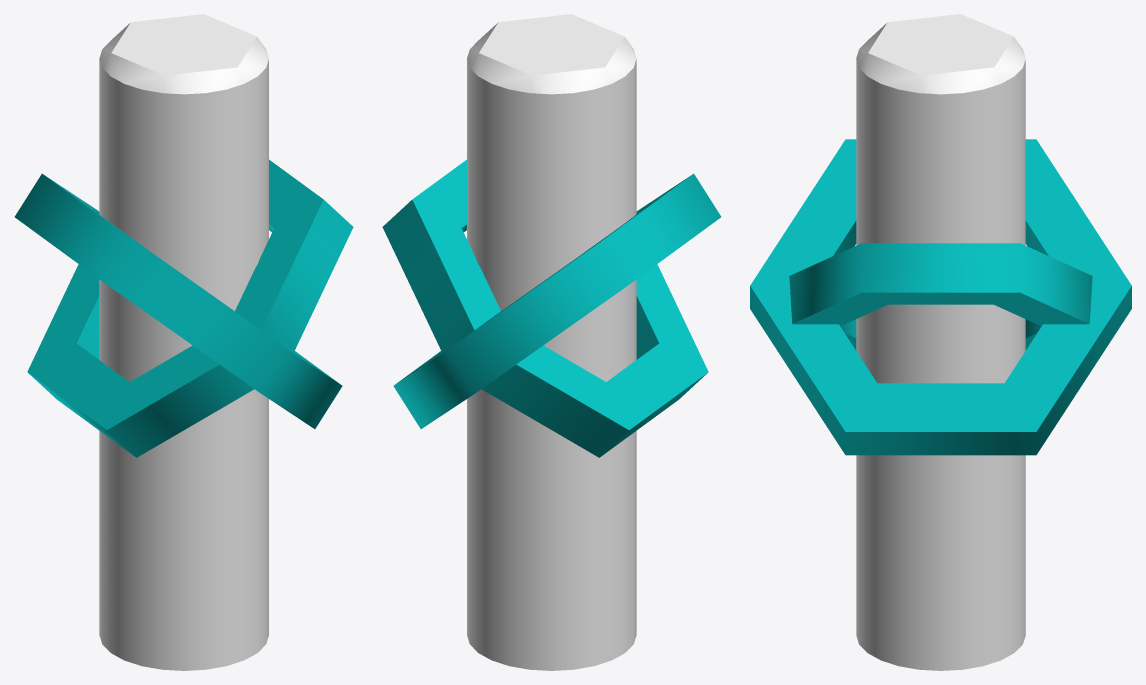
The model's file is FencePost_low.fbx.
3 views of the same model, side by side, from view 1: azimuth 30°, elevation 25°; view 2: azimuth 150°, elevation 25°; view 3: azimuth 270°, elevation 25° (orthographic).
Parts seen in each view (by area): view 1: fencePost_low; view 2: fencePost_low; view 3: fencePost_low.
Boxes of the visible parts, box(x1,y1,x2,y2) form: fencePost_low: box(14, 14, 353, 670); fencePost_low: box(382, 14, 721, 670); fencePost_low: box(750, 14, 1131, 670).
Bounding box in the file's own units: 27.4 × 61.43 × 36.
